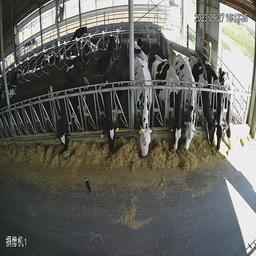cow: (51, 59, 92, 161), (150, 49, 184, 163), (191, 49, 219, 156), (175, 53, 202, 161), (132, 56, 157, 164), (102, 52, 125, 160), (218, 64, 237, 152), (68, 17, 93, 49)
